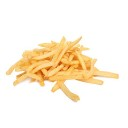frenchfries: (8, 35, 121, 98)
